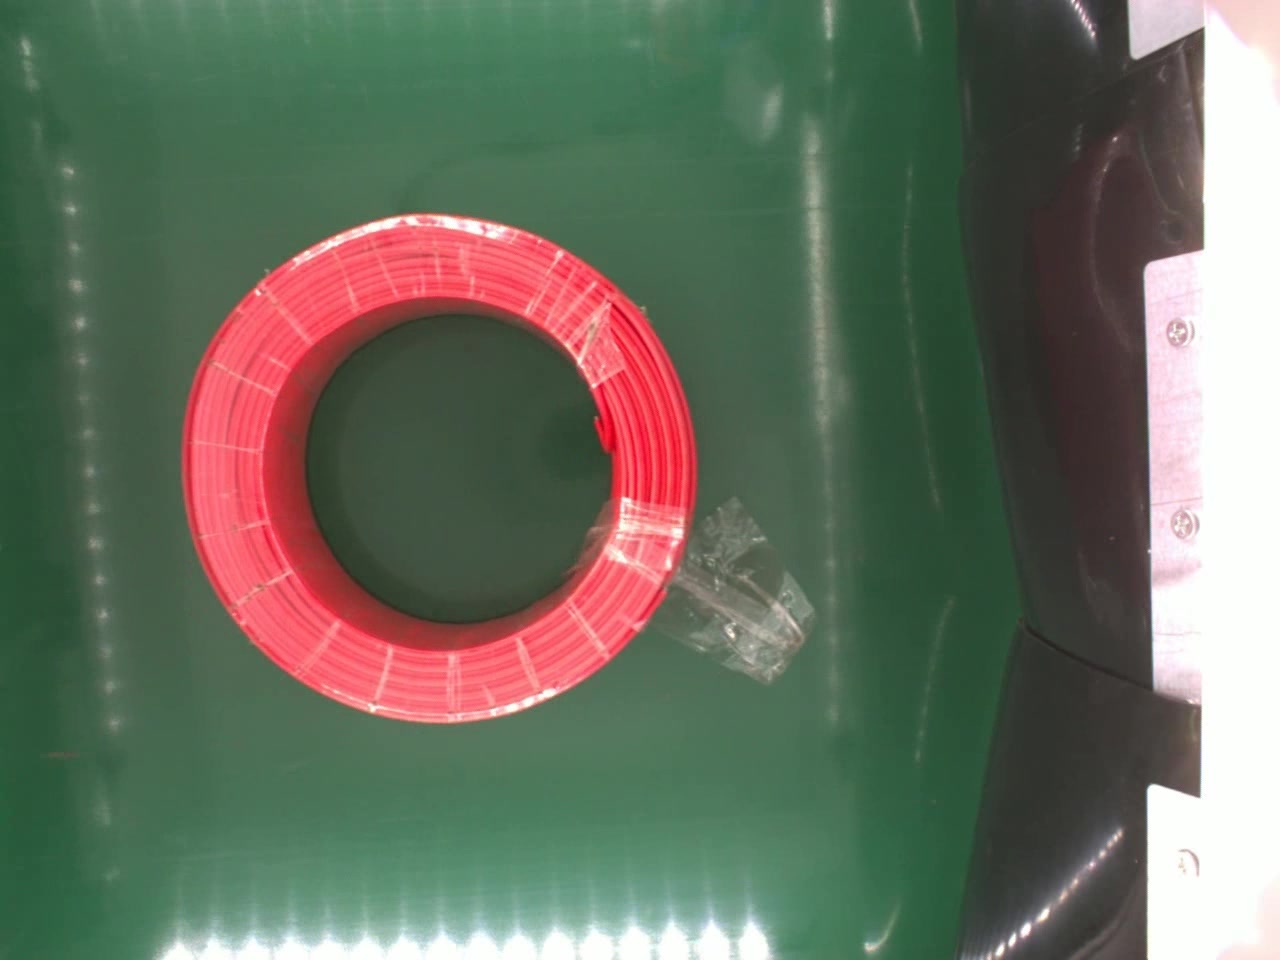red: (178, 209, 699, 726)
